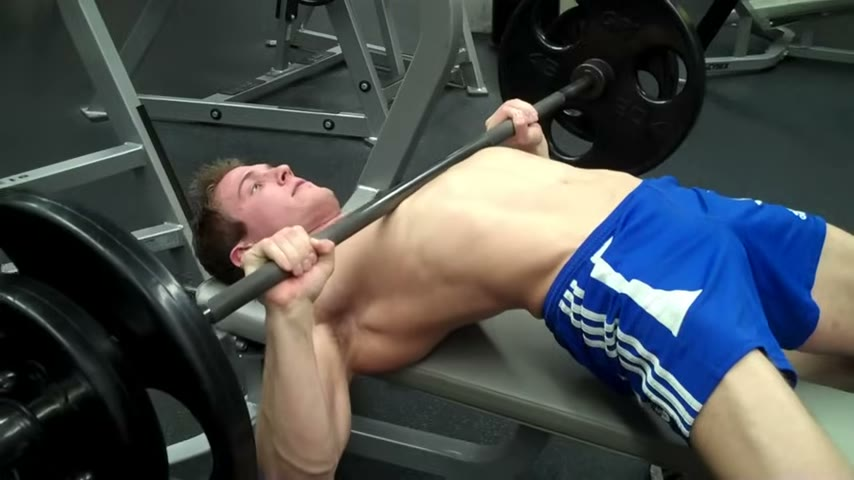barbell_plate_side: (173, 5, 373, 473), (41, 2, 181, 479)
